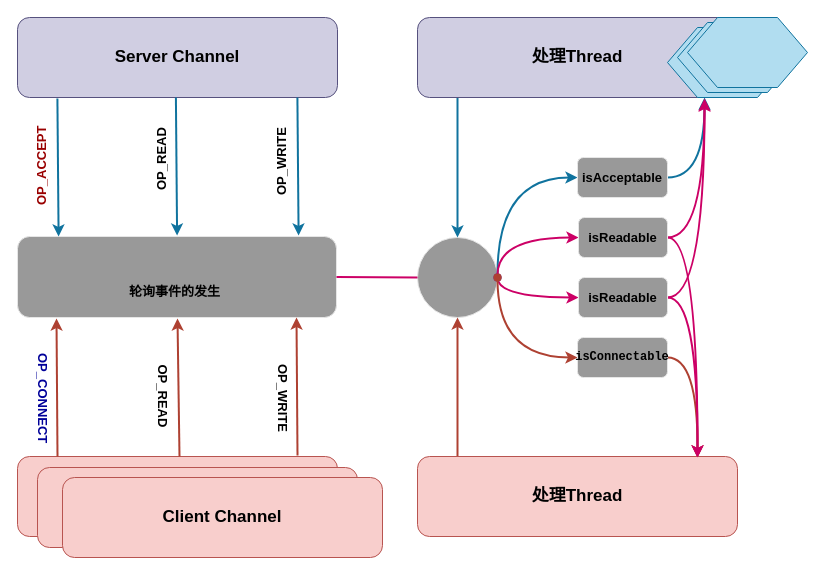
Some shapes in this 825 by 575 pixel diagram are drawn without their labels. Here are the shapes that lost their labels. From the top down, the box of each, then its label:
(686, 16, 808, 88): 获取Client Channel
(16, 236, 336, 318): Selector
(416, 236, 498, 318): 轮询 selectedKeys
